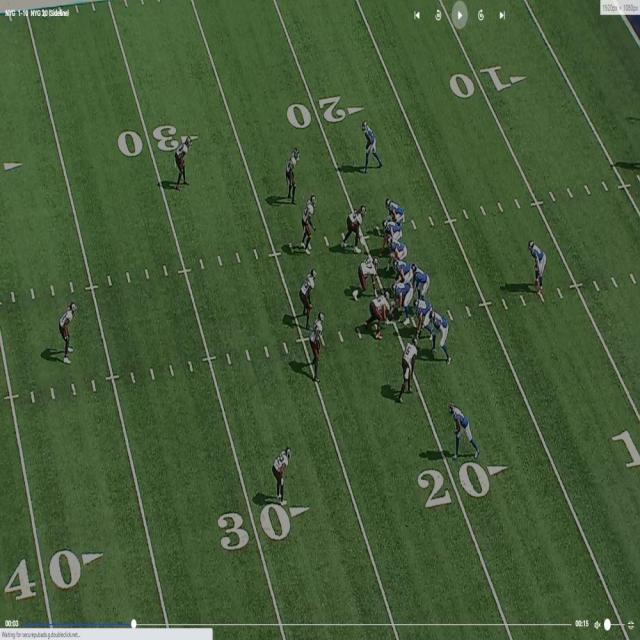center: (394, 279, 411, 311)
db: (59, 299, 75, 361), (271, 450, 290, 502), (174, 136, 191, 186), (284, 151, 298, 202)
lb: (310, 306, 326, 374), (298, 270, 316, 320), (402, 337, 416, 393), (302, 198, 315, 255)
qb: (410, 264, 432, 298)
skill: (448, 406, 478, 460), (528, 236, 546, 290), (363, 119, 382, 168), (379, 220, 402, 245), (385, 197, 403, 221)
